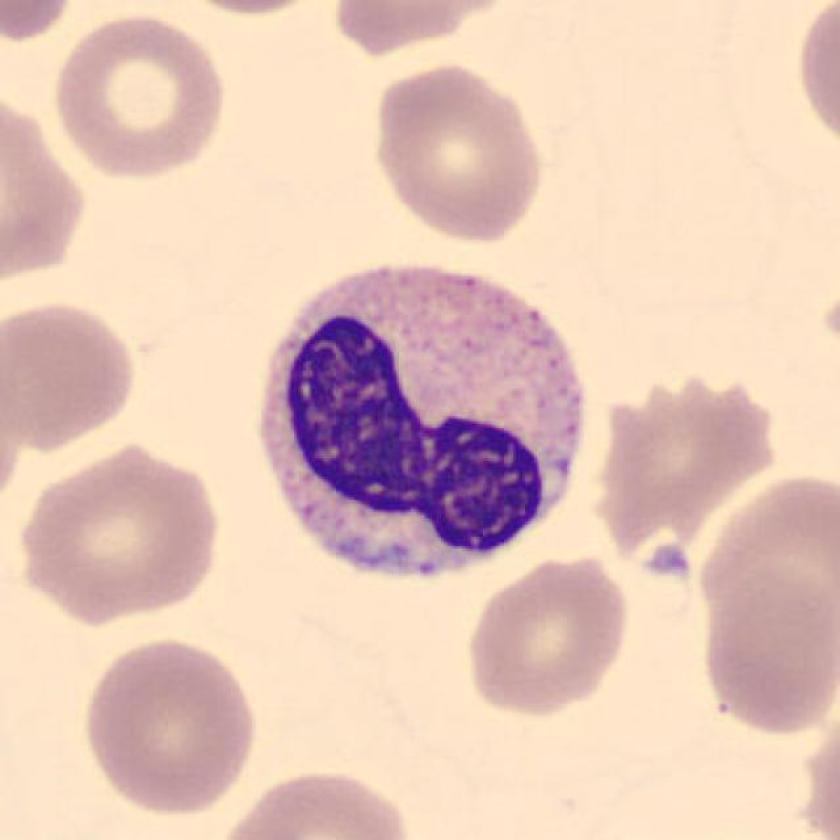neutrophil: (260, 266, 583, 576)
